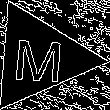M_N: (12, 30, 67, 84)
